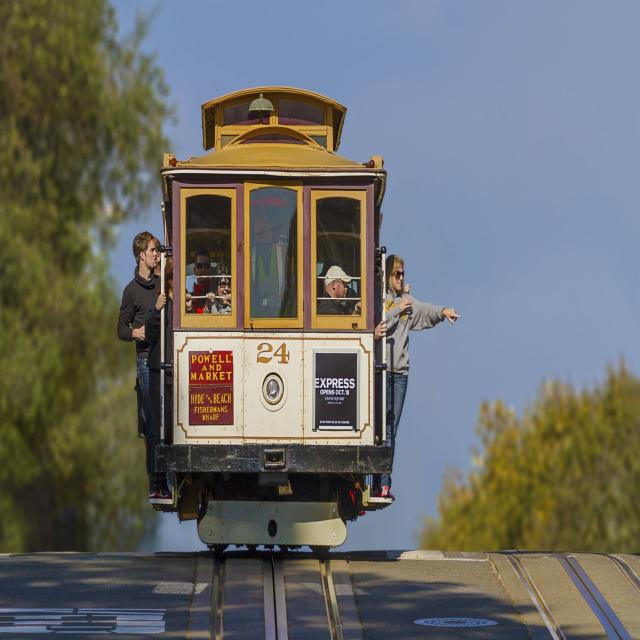body: (381, 254, 462, 500), (144, 254, 195, 500), (116, 229, 161, 479), (250, 214, 296, 318), (316, 264, 362, 316), (189, 248, 213, 314), (203, 261, 231, 314), (373, 268, 413, 298), (144, 234, 165, 278), (160, 465, 178, 497)
